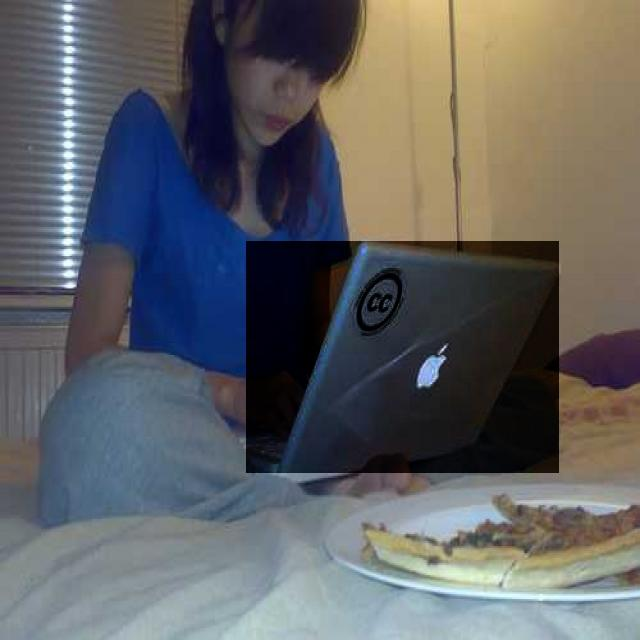-keyboard-: (246, 241, 559, 473)
